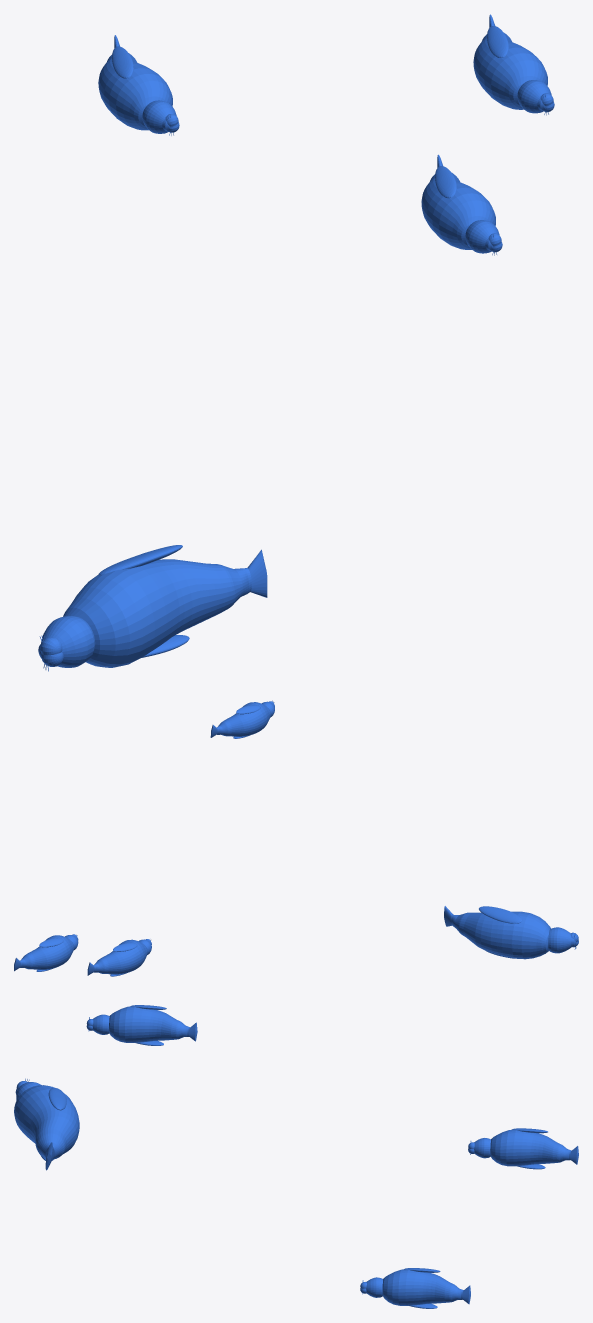
File: fish3.gltf
The picture shows the model from 3 angles, top to bottom: view 1: azimuth 30°, elevation 25°; view 2: azimuth 150°, elevation 25°; view 3: azimuth 270°, elevation 25°; orthographic projection. The views are drawn at different scales.
Visible parts, largest first — view 1: Sphere.013, Sphere.002, Sphere.005, Sphere.004; view 2: Sphere.013, Sphere.002, Sphere.004, Sphere.005; view 3: Sphere.013, Sphere.004, Sphere.002, Sphere.005.
Boxes of the visible parts, x1,y1,x2,y2 form: Sphere.013: [38, 545, 267, 671]; Sphere.002: [421, 154, 502, 255]; Sphere.005: [473, 14, 554, 115]; Sphere.004: [98, 35, 179, 135]; Sphere.013: [444, 906, 578, 959]; Sphere.002: [14, 934, 78, 971]; Sphere.004: [87, 939, 151, 976]; Sphere.005: [210, 700, 274, 738]; Sphere.013: [14, 1078, 79, 1170]; Sphere.004: [468, 1128, 578, 1169]; Sphere.002: [360, 1268, 470, 1308]; Sphere.005: [86, 1005, 197, 1045].
Size of the model in its own units: 0.3315 by 0.1864 by 0.3452.
